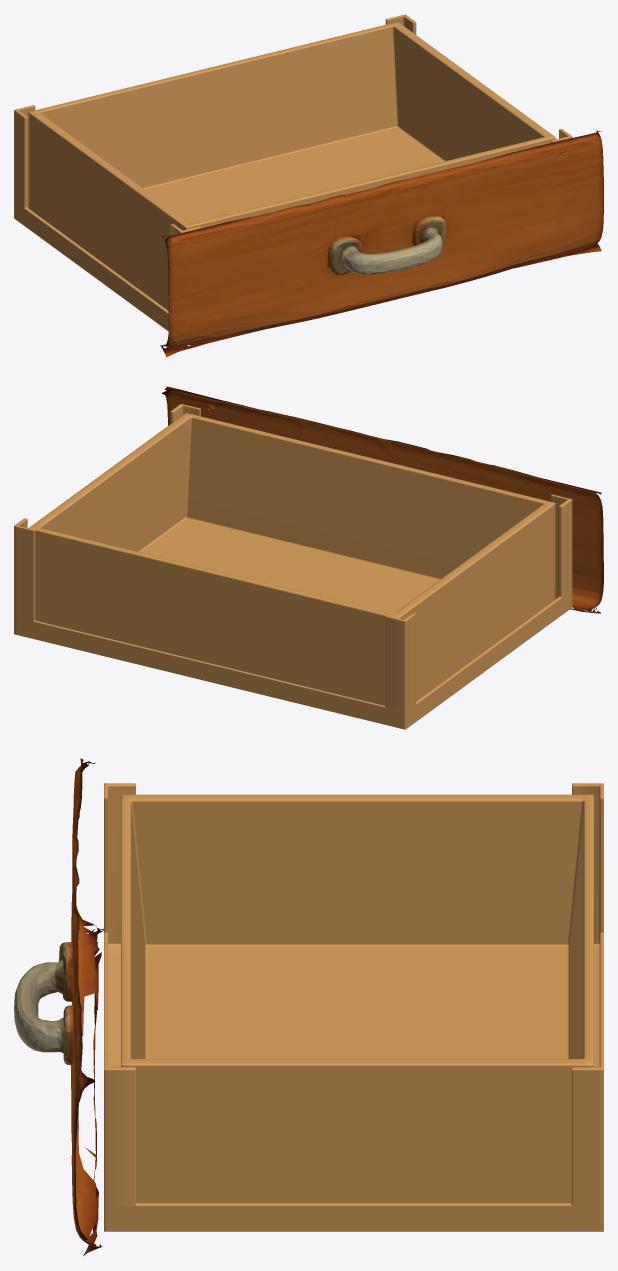
Rendered from drawer_top.glb.
3 renders of one model, top to bottom at view 1: azimuth 30°, elevation 25°; view 2: azimuth 150°, elevation 25°; view 3: azimuth 270°, elevation 25°, orthographic. The views are drawn at different scales.
Visible parts, largest first — view 1: prefab_drawer_body_1, source_front_cap_0; view 2: prefab_drawer_body_1, source_front_cap_0; view 3: prefab_drawer_body_1, source_front_cap_0.
Boxes of the visible parts, left/top/right/bottom form: prefab_drawer_body_1: left=14, top=14, right=572, bottom=331; source_front_cap_0: left=160, top=130, right=603, bottom=357; prefab_drawer_body_1: left=14, top=404, right=572, bottom=729; source_front_cap_0: left=162, top=386, right=603, bottom=613; prefab_drawer_body_1: left=104, top=783, right=603, bottom=1231; source_front_cap_0: left=14, top=758, right=103, bottom=1255.
Size of the model in its own units: 0.4875 by 0.1292 by 0.3822.
2 materials, 1 textured.
